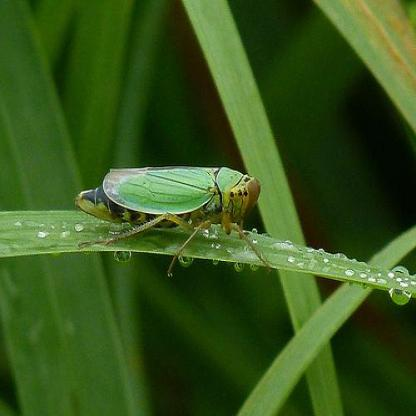Green-Leafhopper: (75, 160, 264, 274)
